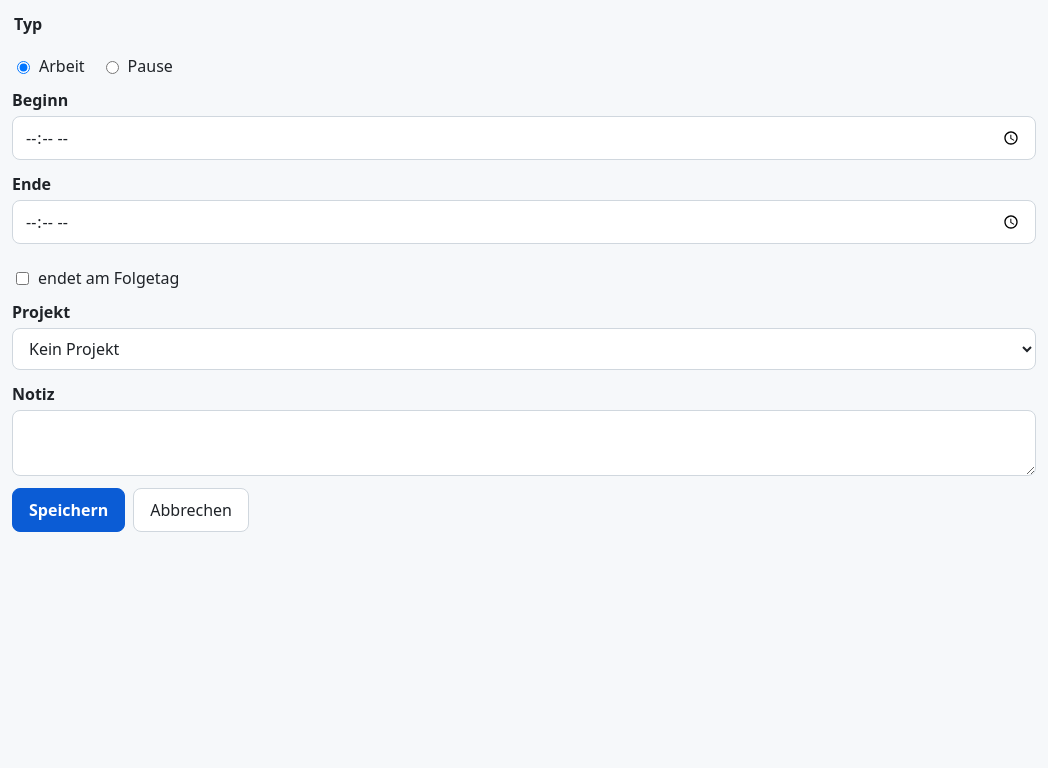
Test: EntryForm: add mode › rejects an overlap with an existing entry and writes nothing
Type "08:00" into the time field labelled "Beginn". click: {"x": 524, "y": 138}
box: [12,116,1036,160]
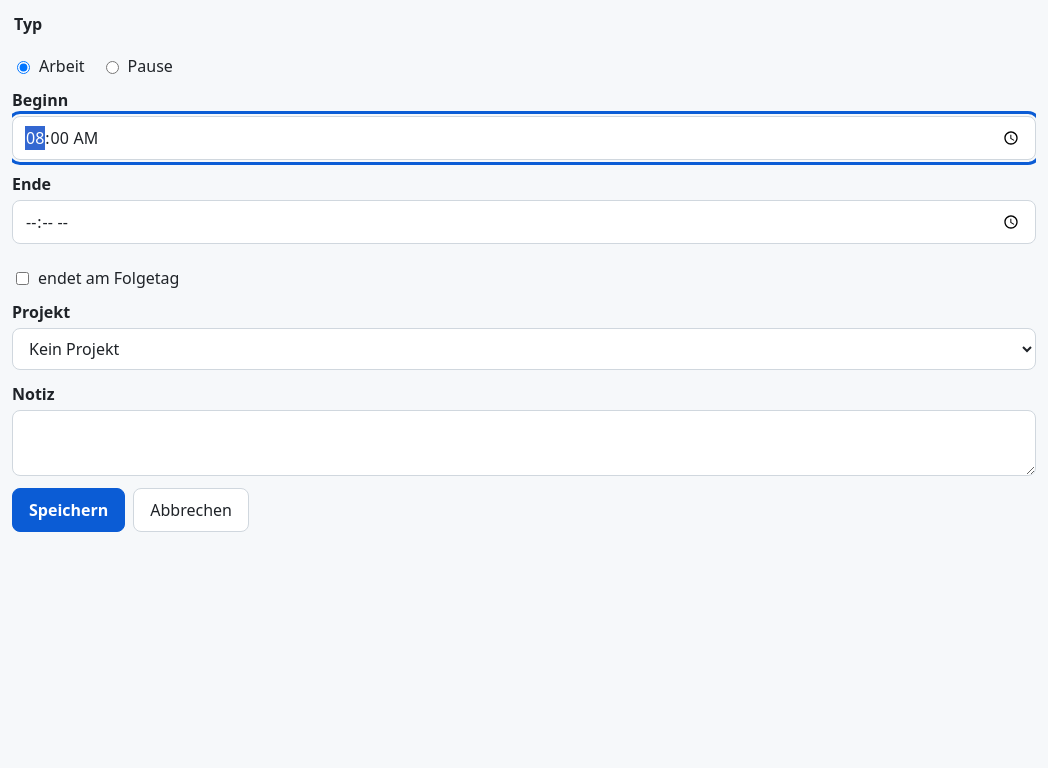
Type "12:00" into the time field labelled "Ende". click: {"x": 524, "y": 222}
box: [12,200,1036,244]
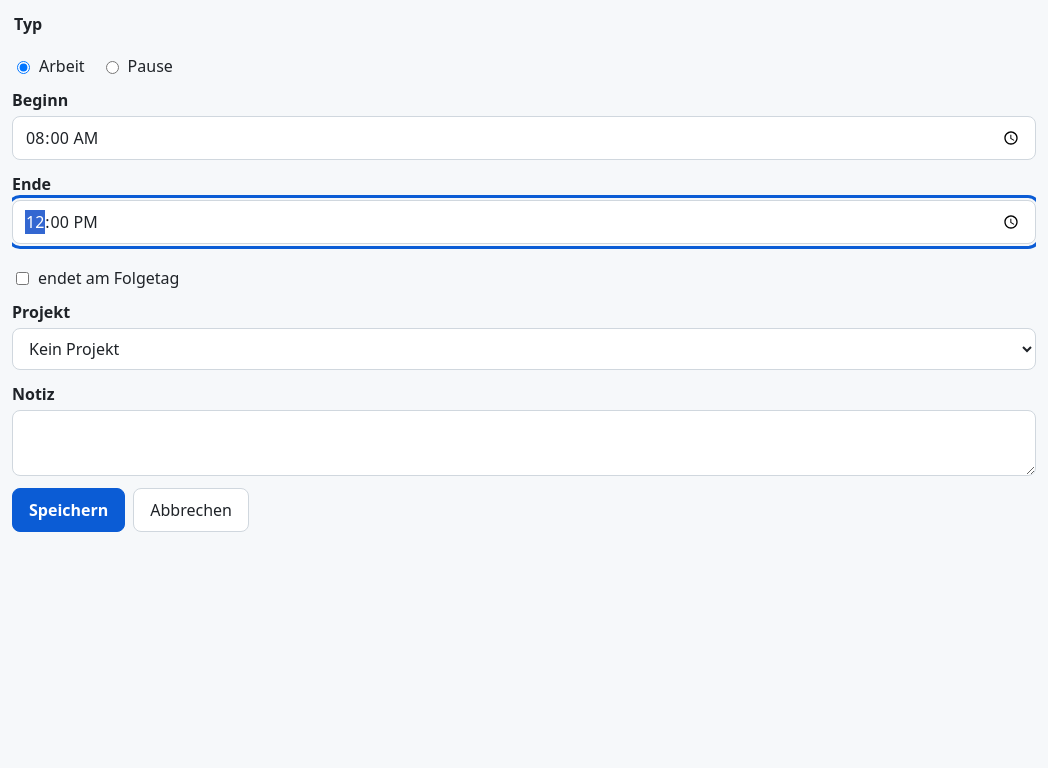
Click the button "Speichern". click: {"x": 69, "y": 510}
box: [12,488,125,532]
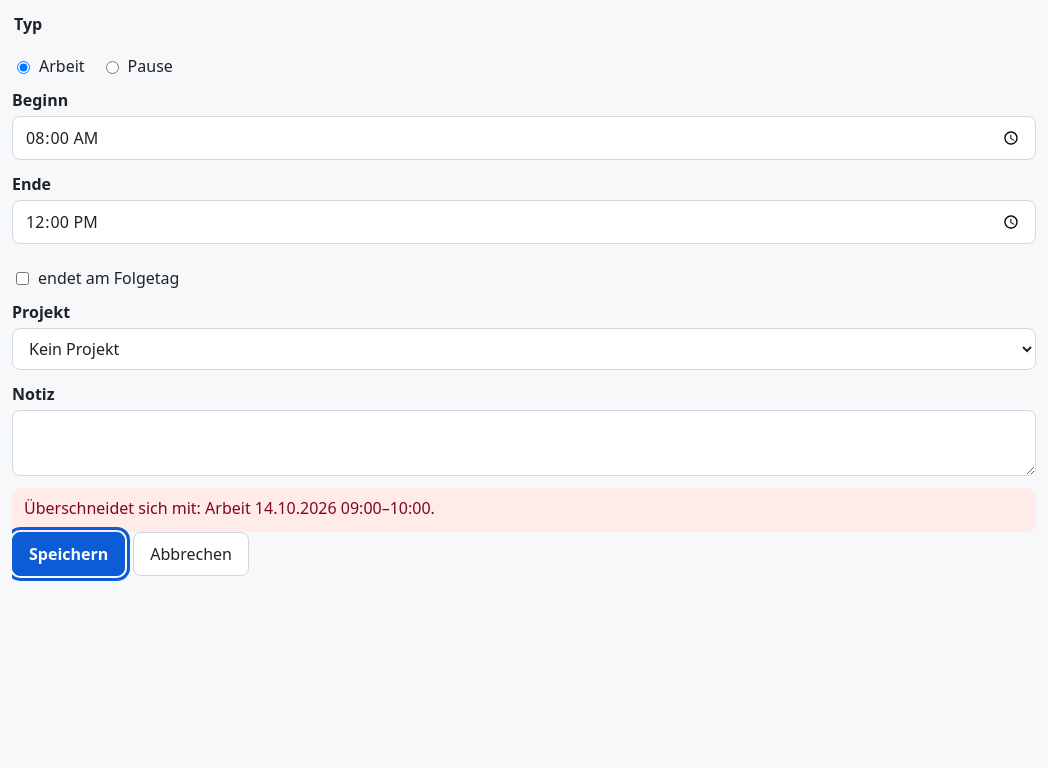
Check: the message reads "Überschneidet sich mit: Arbeit 14.10.2026 09:00–10:00.", box [24,497,435,519]
